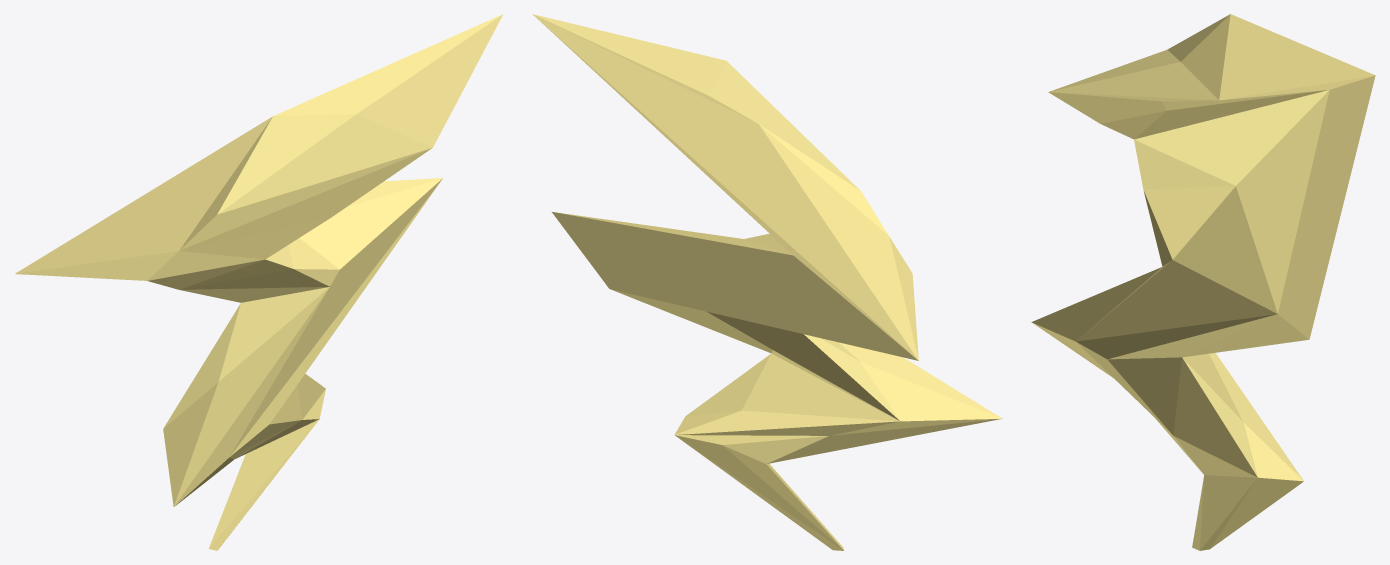
Rendered from Lightning.fbx.
3 views of the same model, side by side, from view 1: azimuth 30°, elevation 25°; view 2: azimuth 150°, elevation 25°; view 3: azimuth 270°, elevation 25° (orthographic). The views are drawn at different scales.
Parts seen in each view (by area): view 1: Cube.011; view 2: Cube.011; view 3: Cube.011.
Boxes of the visible parts, x1,y1,x2,y2 form: Cube.011: (15, 14, 503, 550); Cube.011: (532, 14, 1002, 550); Cube.011: (1031, 14, 1375, 550).
Bounding box in the file's own units: 296 × 298 × 143.
